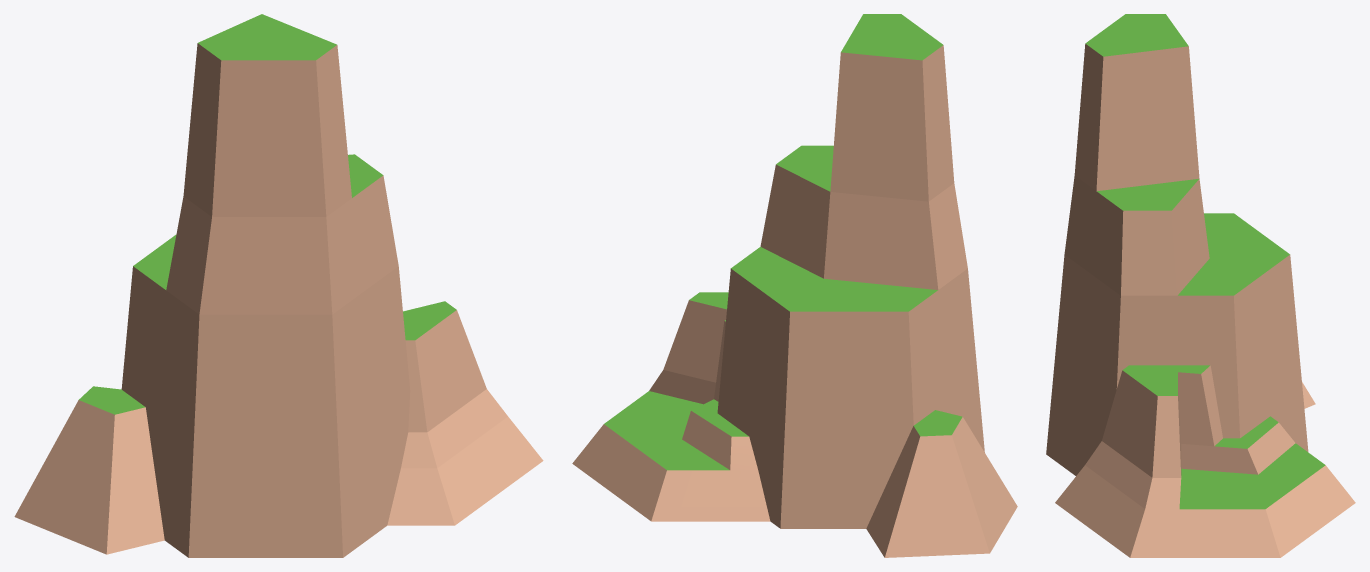
The model's file is rock_2.fbx.
3 renders of one model, left to right at view 1: azimuth 30°, elevation 25°; view 2: azimuth 150°, elevation 25°; view 3: azimuth 270°, elevation 25°, orthographic. The views are drawn at different scales.
Visible parts, largest first — view 1: rock_2; view 2: rock_2; view 3: rock_2.
Part boxes in pixels (box(x1,y1,x2,y2)): rock_2: box(14, 14, 543, 557); rock_2: box(572, 14, 1017, 557); rock_2: box(1046, 14, 1355, 557).
Bounding box in the file's own units: 0.9831 × 0.9959 × 0.6832.
1 material, 1 textured.
